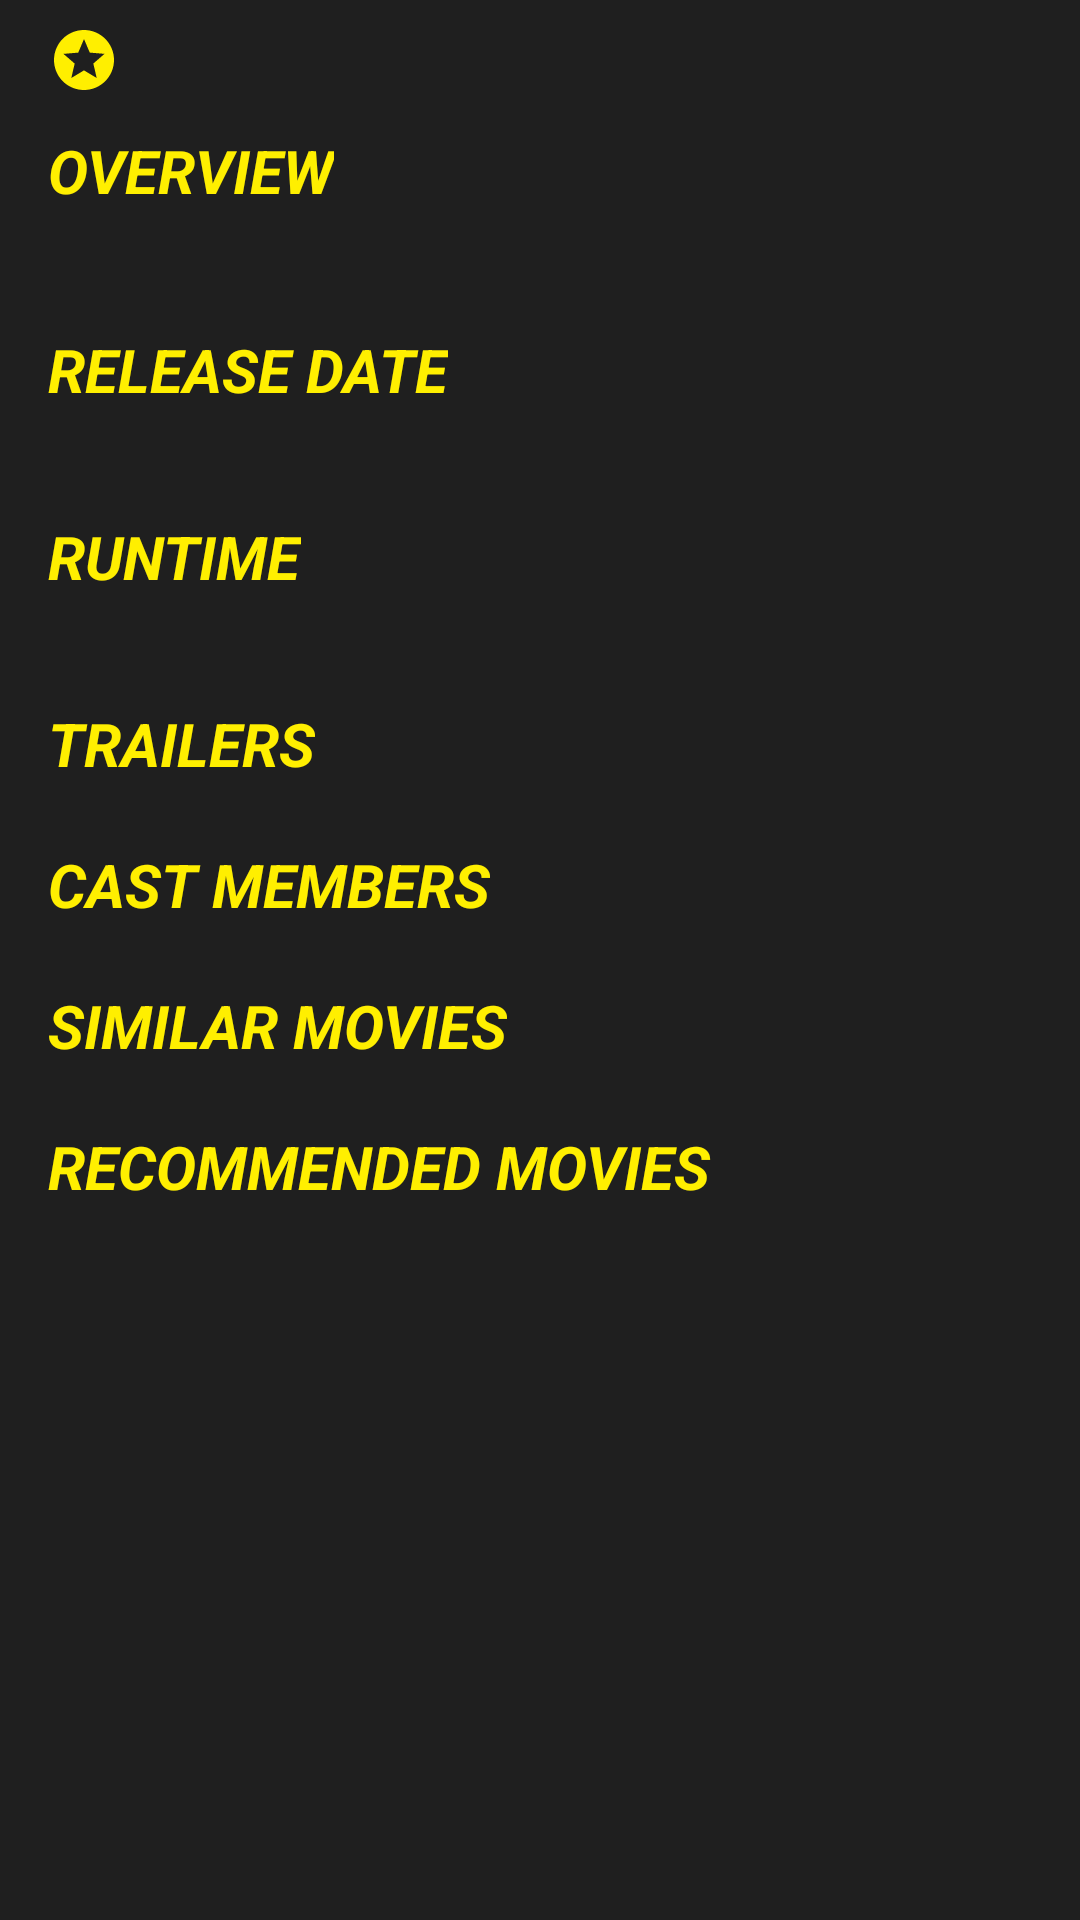

Screen size 1080x1920. Icon name, then its center in pixels as (x=x, y=y):
stars: (x=84, y=60)
